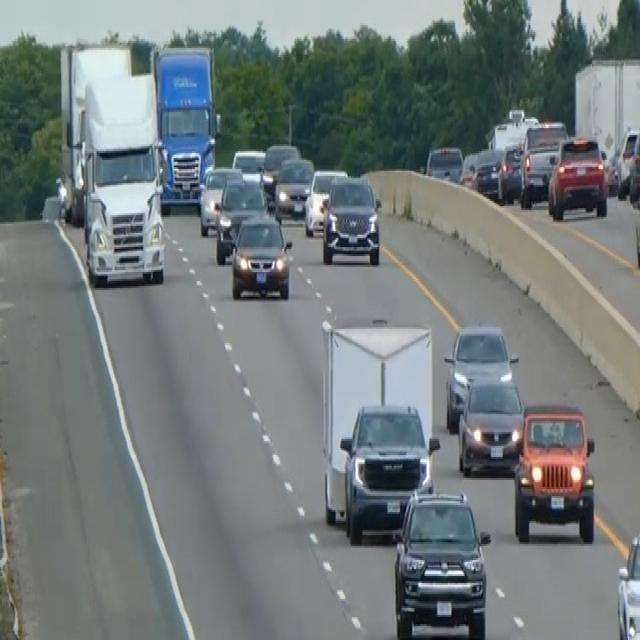car: (339, 398, 437, 542), (443, 320, 516, 432), (456, 372, 524, 476), (229, 210, 292, 300), (321, 172, 381, 265), (547, 134, 609, 220), (214, 174, 268, 263), (519, 119, 567, 206), (198, 162, 243, 234), (303, 166, 347, 237), (473, 140, 522, 202), (273, 154, 314, 218), (260, 140, 300, 204), (615, 532, 639, 638), (615, 125, 639, 199), (424, 142, 463, 183), (231, 146, 265, 178), (627, 128, 639, 204)
jeep: (391, 486, 491, 638), (511, 398, 597, 544)
lorry: (58, 38, 167, 286), (152, 42, 218, 212)
